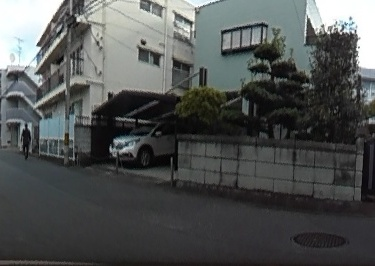person: (19, 123, 32, 160)
